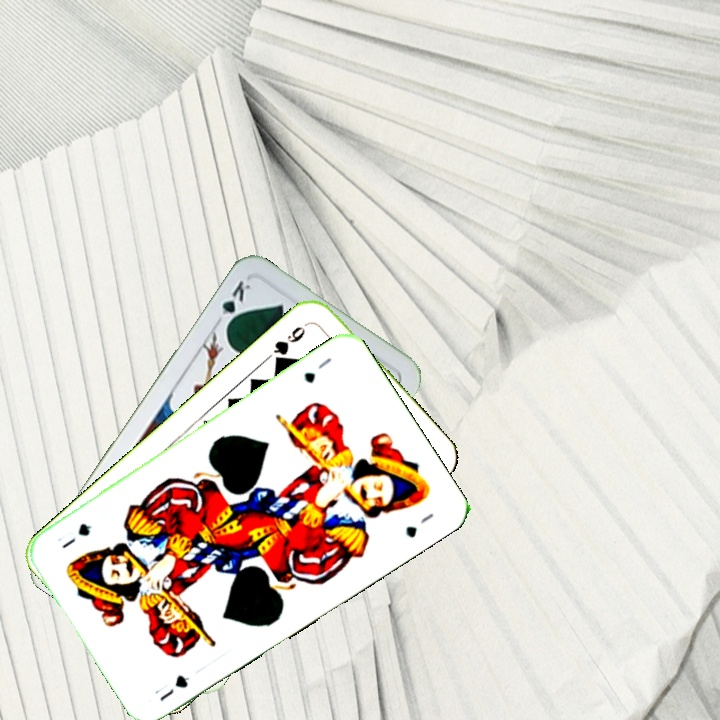G9: (269, 322, 308, 367)
GK: (211, 275, 254, 332)
GU: (150, 671, 192, 704), (300, 353, 334, 386)
